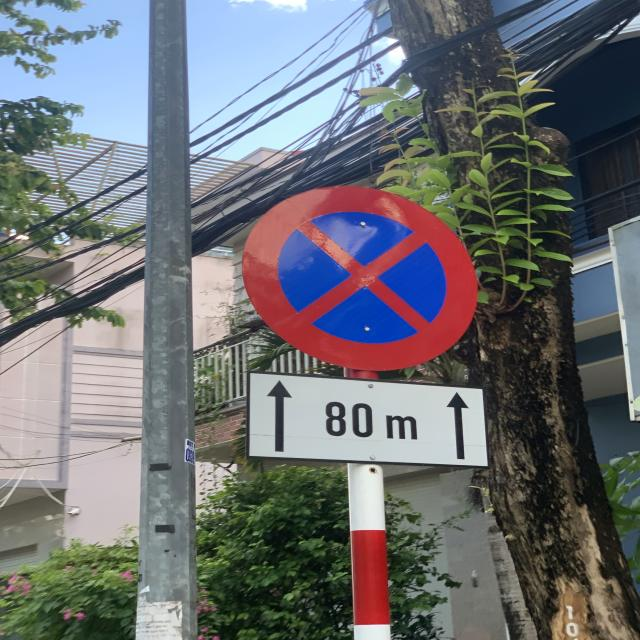Cam_Dung_Va_Dau_Xe: (242, 185, 478, 370)
